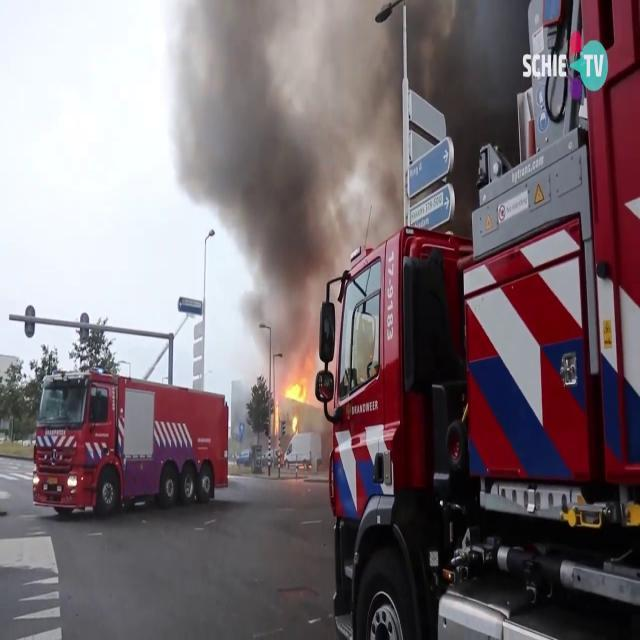Fire: (274, 371, 314, 433)
Smoke: (157, 0, 401, 321)
